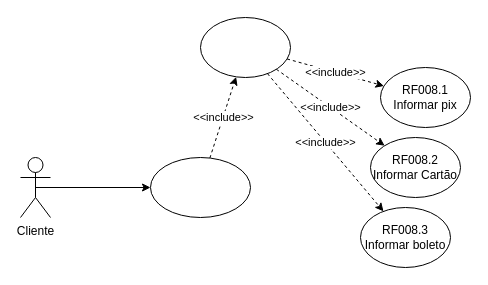
This 488x285 diagram has some shape labels left out. The box of each missing label's shape, as (x1, y1, x2, y2) in pixels:
RF007.0 Comprar produto: (150, 156, 250, 218)
RF008.0 Informar tipo de pagamento: (200, 16, 290, 78)
